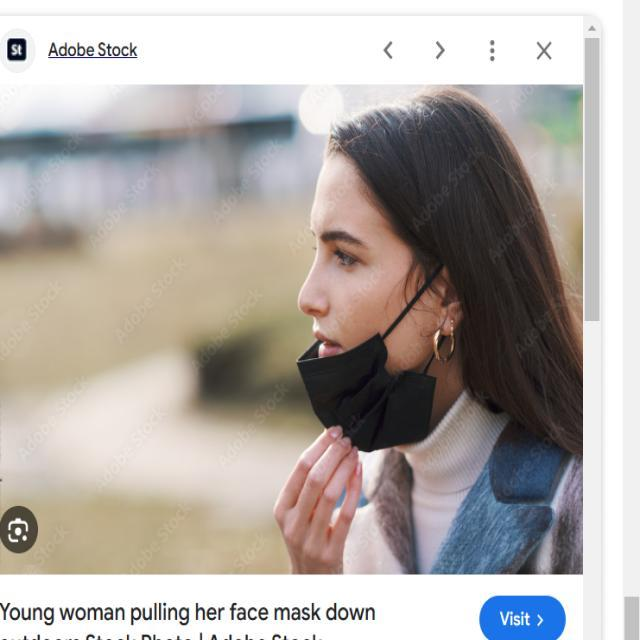face_no_mask: (296, 155, 471, 368)
